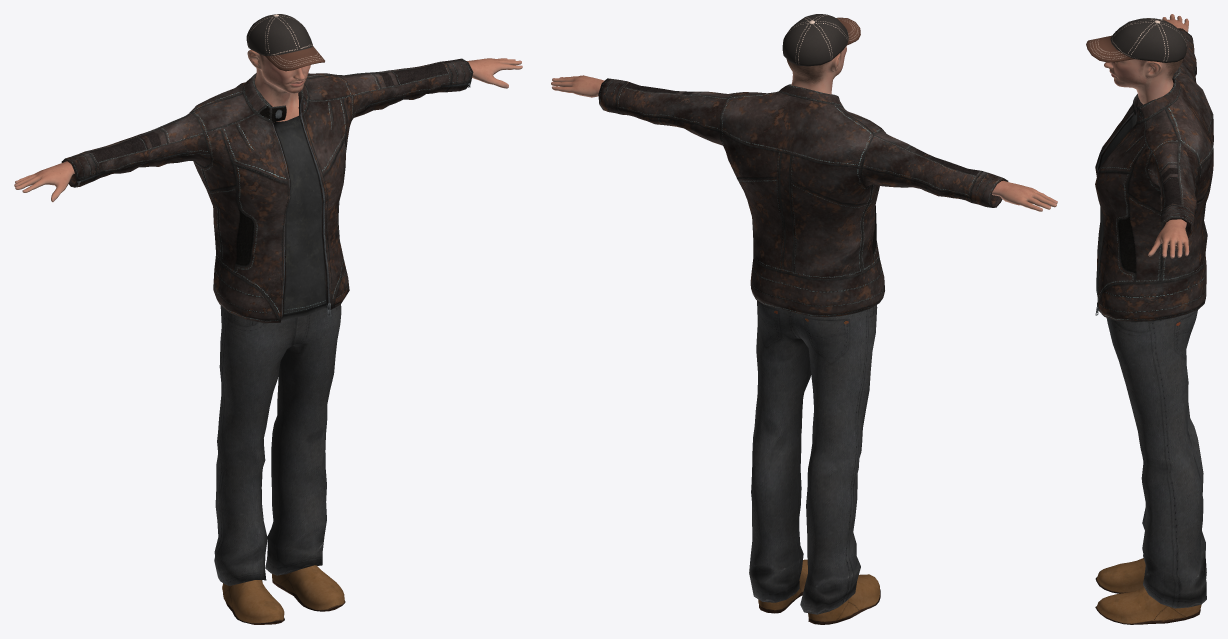
The picture shows the model from 3 angles, left to right: view 1: azimuth 30°, elevation 25°; view 2: azimuth 150°, elevation 25°; view 3: azimuth 270°, elevation 25°; orthographic projection.
Parts seen in each view (by area): view 1: Tops, Bottoms, Body, Shoes, Hats; view 2: Tops, Bottoms, Body, Hats, Shoes; view 3: Tops, Bottoms, Shoes, Body, Hats.
Part boxes in pixels (x1,y1,x2,y2): Tops: (61,58,473,323); Bottoms: (214,304,341,585); Body: (14,49,522,202); Shoes: (222,565,345,624); Hats: (246,14,324,71); Tops: (598,78,1008,317); Bottoms: (749,300,877,614); Body: (551,45,1057,211); Hats: (782,14,860,66); Shoes: (758,559,880,624); Tops: (1095,28,1213,322); Bottoms: (1106,310,1206,608); Shoes: (1095,558,1201,624); Body: (1104,14,1189,258); Hats: (1086,18,1187,62).
Bounding box in the file's own units: 161 × 178 × 35.42.
5 materials, 5 textured.
